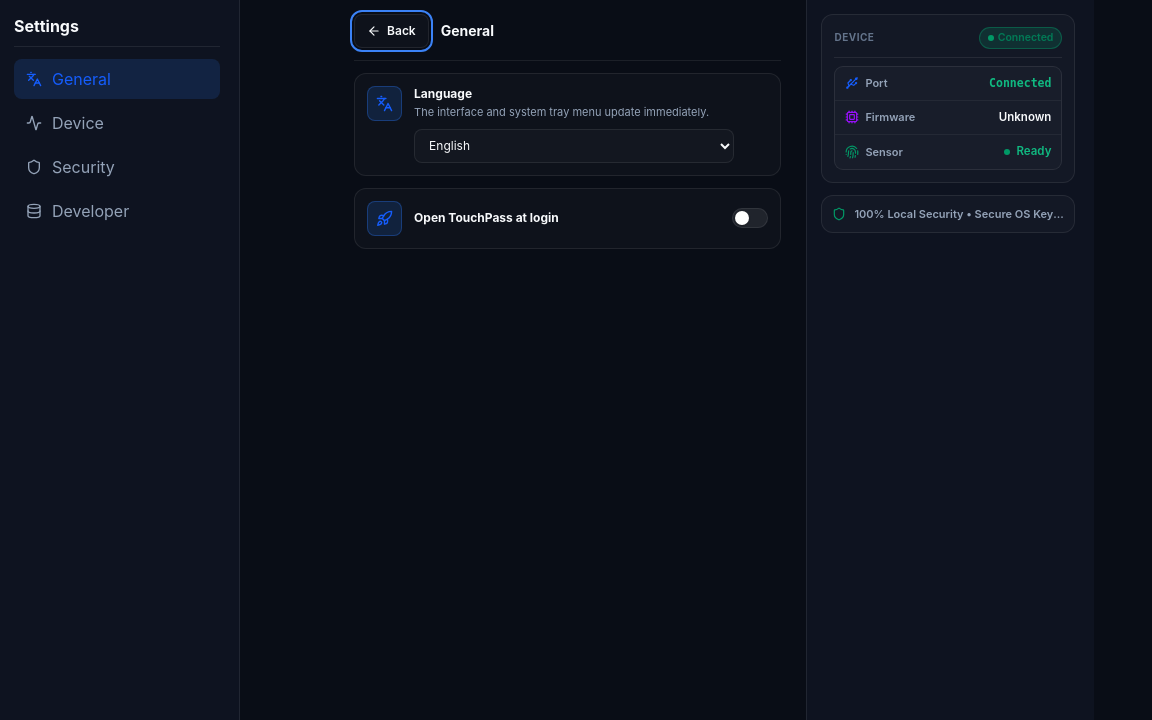
Test: SettingsPane › switches categories and keeps live device actions available
The image size is (1152, 720).
Click the button "Device". click: (117, 123)
box: [14,103,220,143]
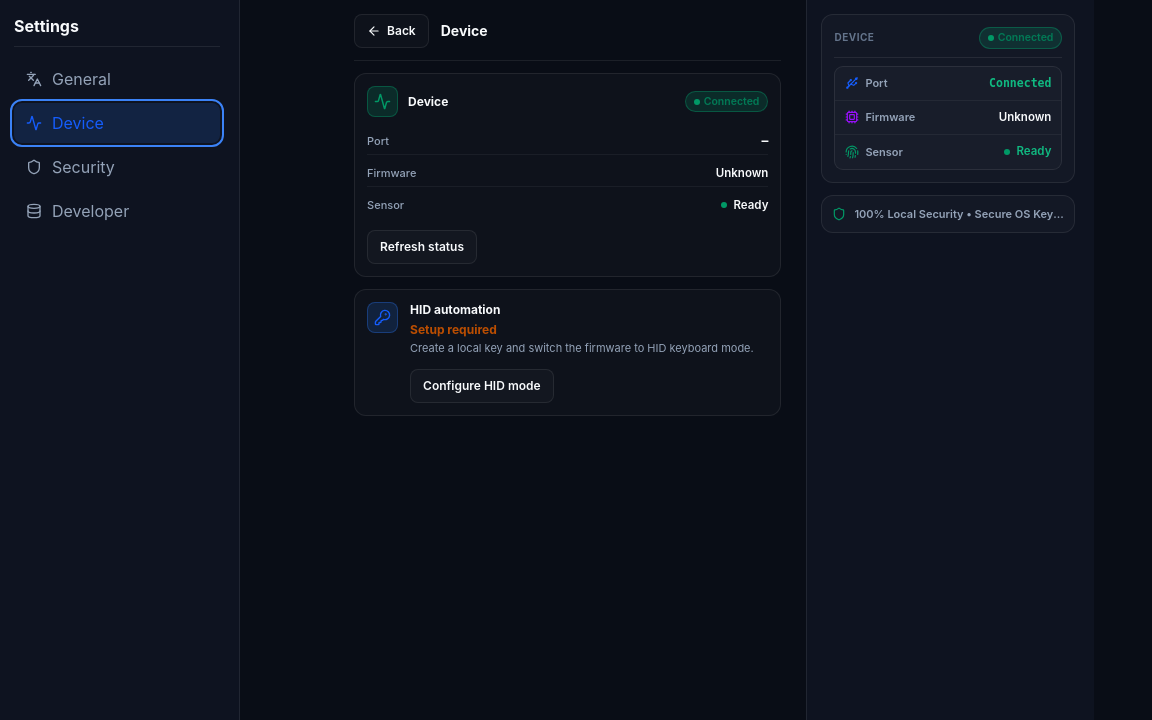
Expected: the element "Device" is shown, [334,0,806,719]
Click the button "Refresh status". click: (422, 247)
box: [367,230,477,264]
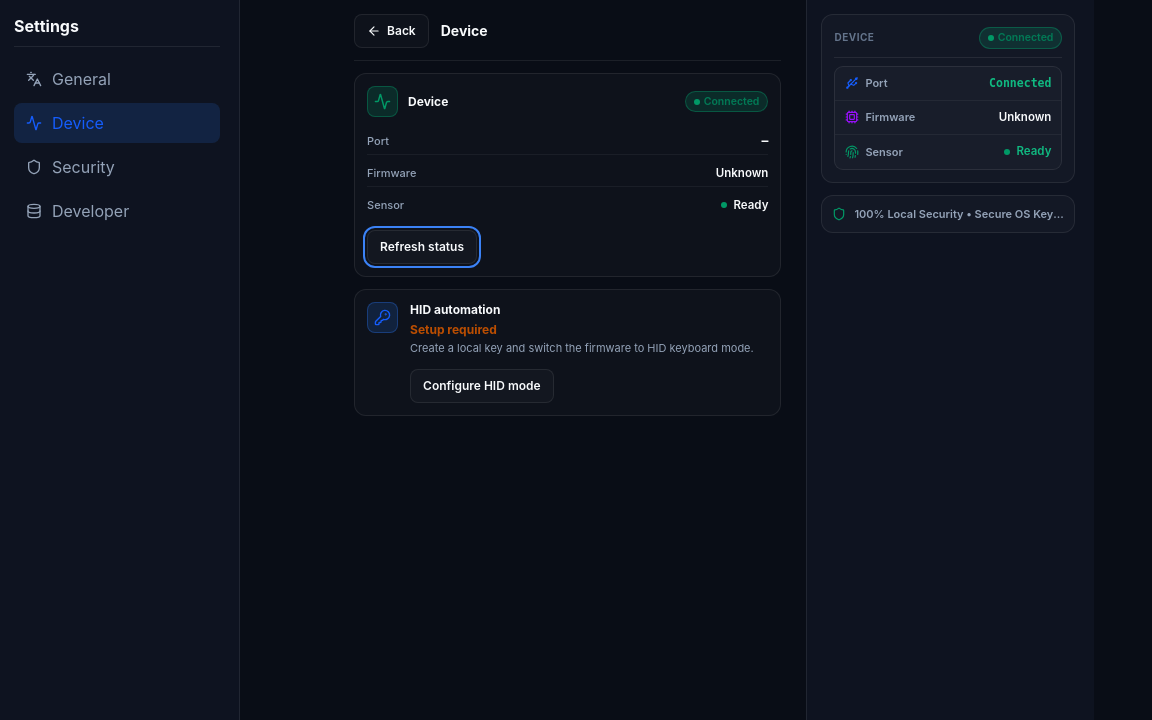
Click the button "Developer". click: (117, 211)
box: [14,191,220,231]
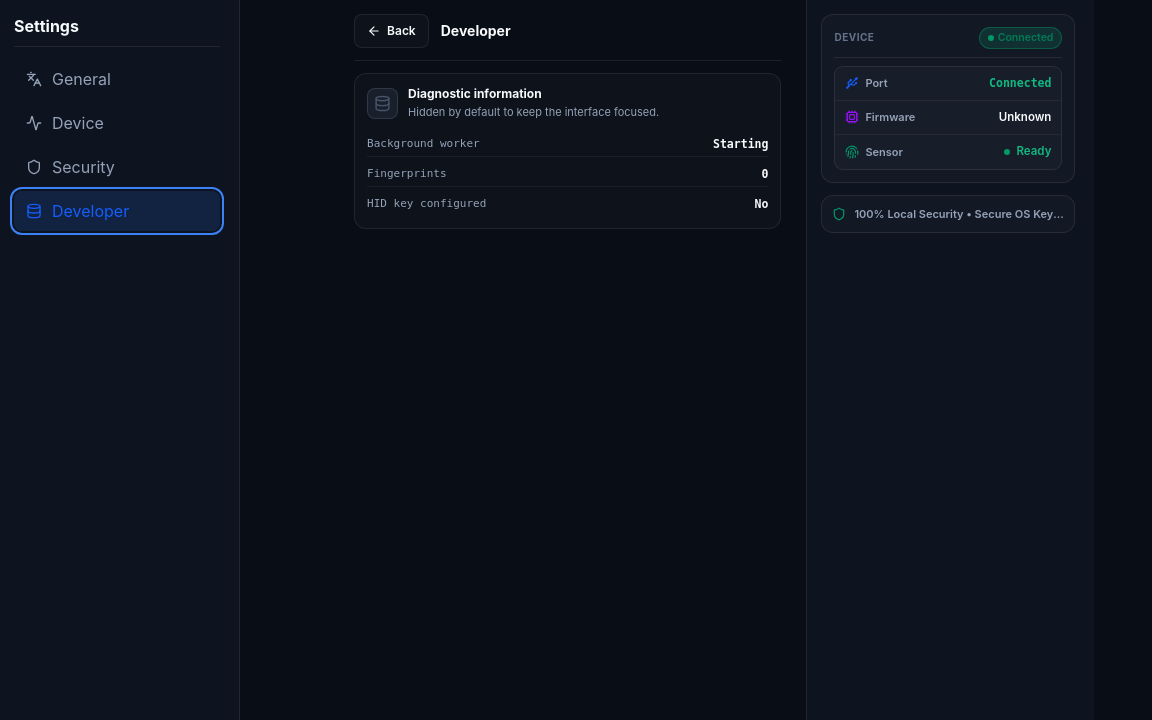
Expected: the heading "Diagnostic information" is shown, [408,86,542,101]
